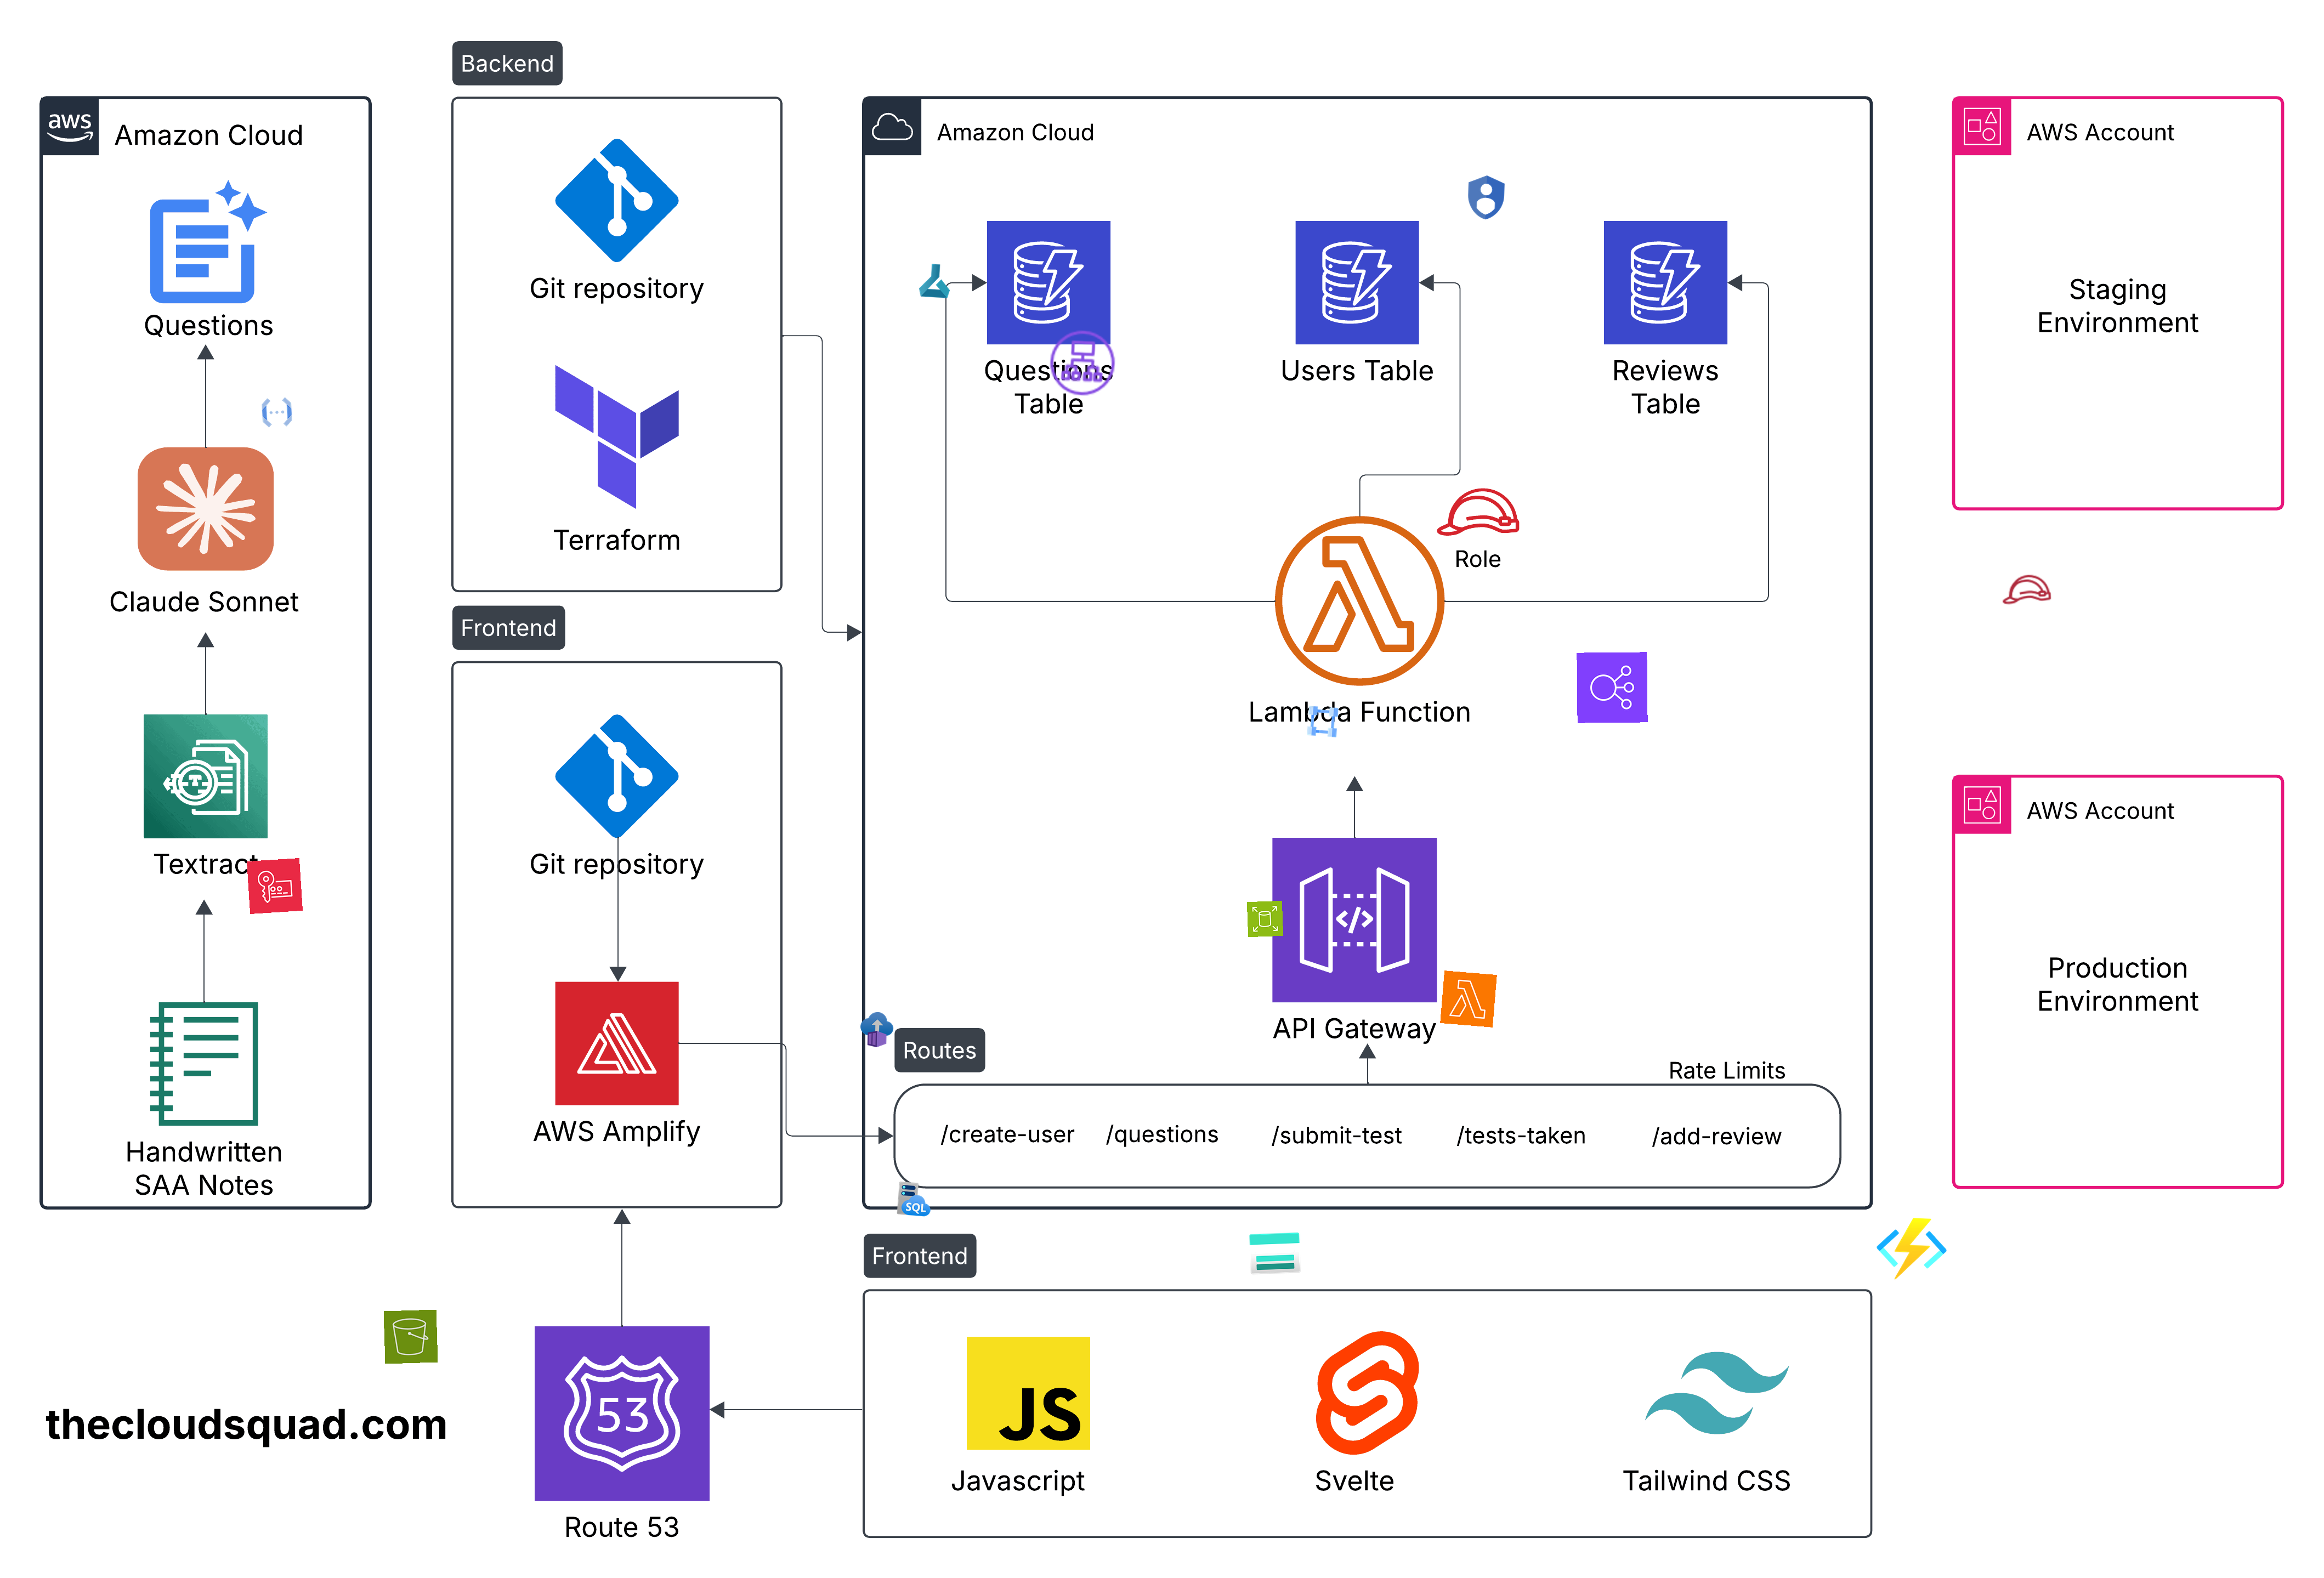aws_amazon_elastic_block_store: (1247, 900, 1283, 937)
aws_amazon_simple_storage_service: (384, 1309, 438, 1365)
aws_elastic_load_balancing: (1576, 652, 1648, 724)
aws_elastic_load_balancing_application_load_balancer: (1046, 326, 1120, 400)
aws_identity_access_management_role: (1998, 562, 2055, 618)
aws_key_management_service: (246, 858, 303, 914)
aws_lambda: (1440, 970, 1497, 1027)
azure_container_instances: (859, 1011, 894, 1048)
azure_function_apps: (1875, 1212, 1949, 1286)
azure_machine_learning: (916, 262, 954, 299)
azure_sql_managed_instance: (896, 1180, 933, 1219)
azure_storage_accounts: (1248, 1226, 1303, 1280)
gcp_cloud_functions: (259, 394, 296, 431)
gcp_identity_and_access_management: (1460, 171, 1514, 225)
gcp_virtual_private_cloud: (1303, 703, 1342, 741)
